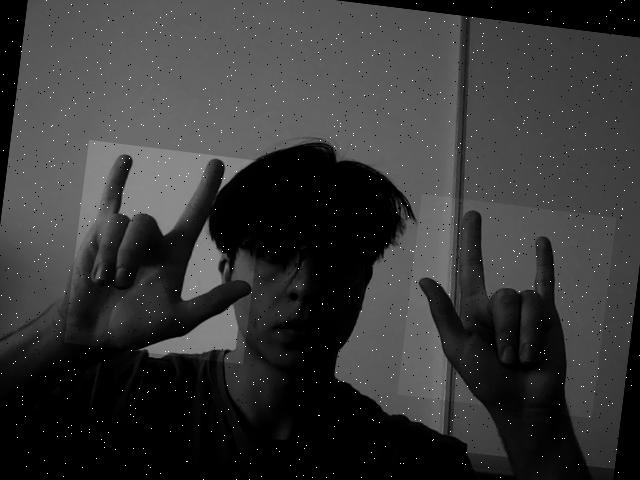I_Love_You: (397, 194, 616, 418), (64, 140, 268, 364)
